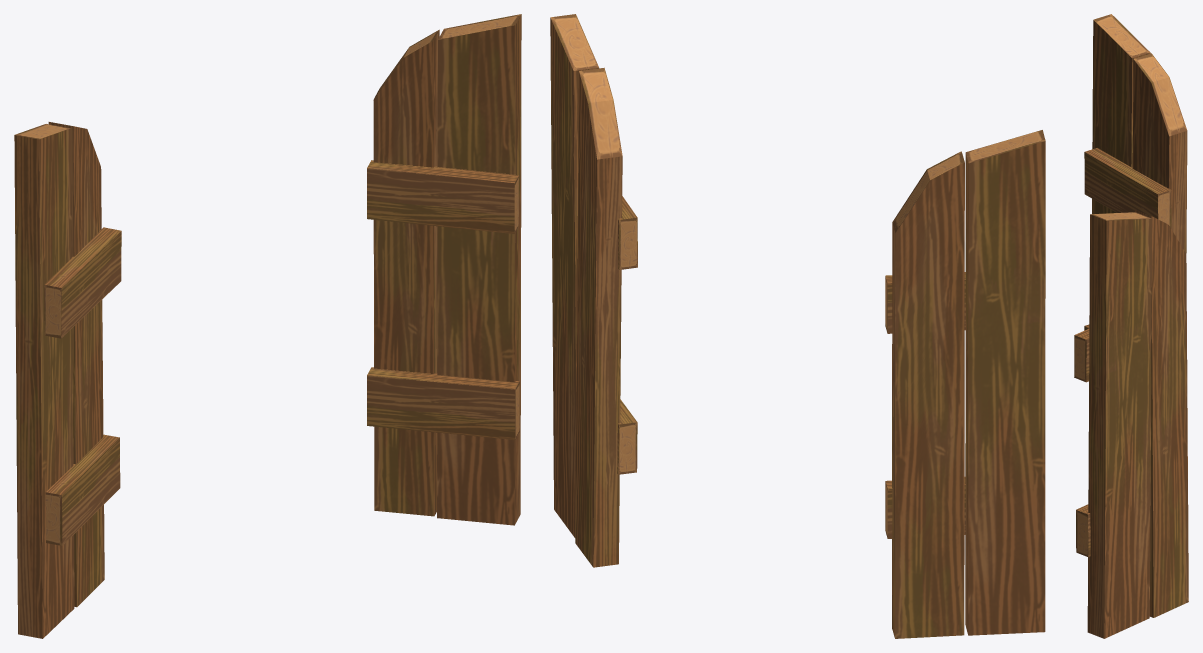
The model's file is window_shutters_thin_round_open.glb.
3 views of the same model, side by side, from view 1: azimuth 30°, elevation 25°; view 2: azimuth 150°, elevation 25°; view 3: azimuth 270°, elevation 25° (orthographic). The views are drawn at different scales.
Parts seen in each view (by area): view 1: WindowShutters_Thin_Round_Open; view 2: WindowShutters_Thin_Round_Open; view 3: WindowShutters_Thin_Round_Open.
Part boxes in pixels (left/top/right/bottom): WindowShutters_Thin_Round_Open: left=14, top=14, right=521, bottom=638; WindowShutters_Thin_Round_Open: left=550, top=14, right=1045, bottom=638; WindowShutters_Thin_Round_Open: left=1074, top=14, right=1188, bottom=638.
Size of the model in its own units: 1.61 by 1.52 by 0.3765.
Materials: 1 (1 with a texture image).
